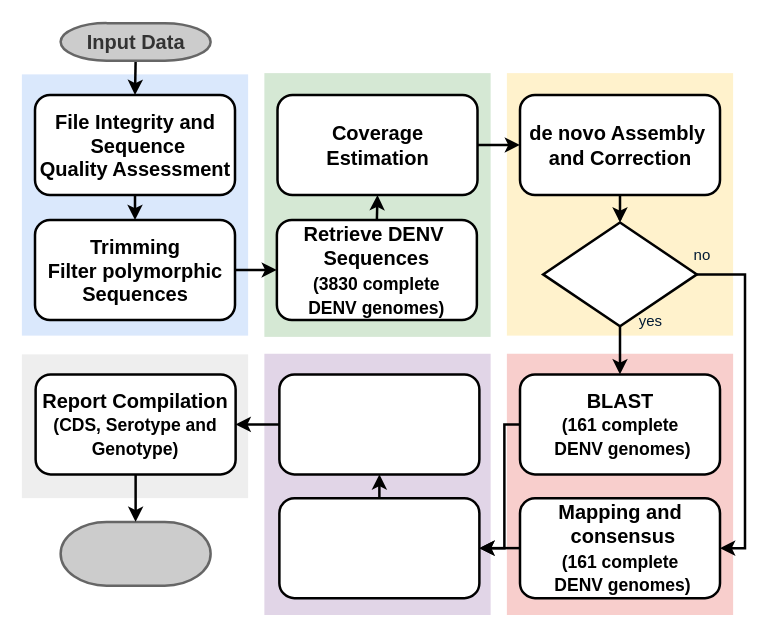
Some shapes in this 778 by 636 pixel diagram are drawn without their labels. The box of each missing label's shape, as (x1, y1, x2, y2) in pixels:
CDS Alignment: (278, 496, 480, 599)
Complete CDS: (541, 221, 698, 327)
Interactive Report: (59, 520, 211, 586)
Phylogenetic Inference: (278, 372, 480, 475)
